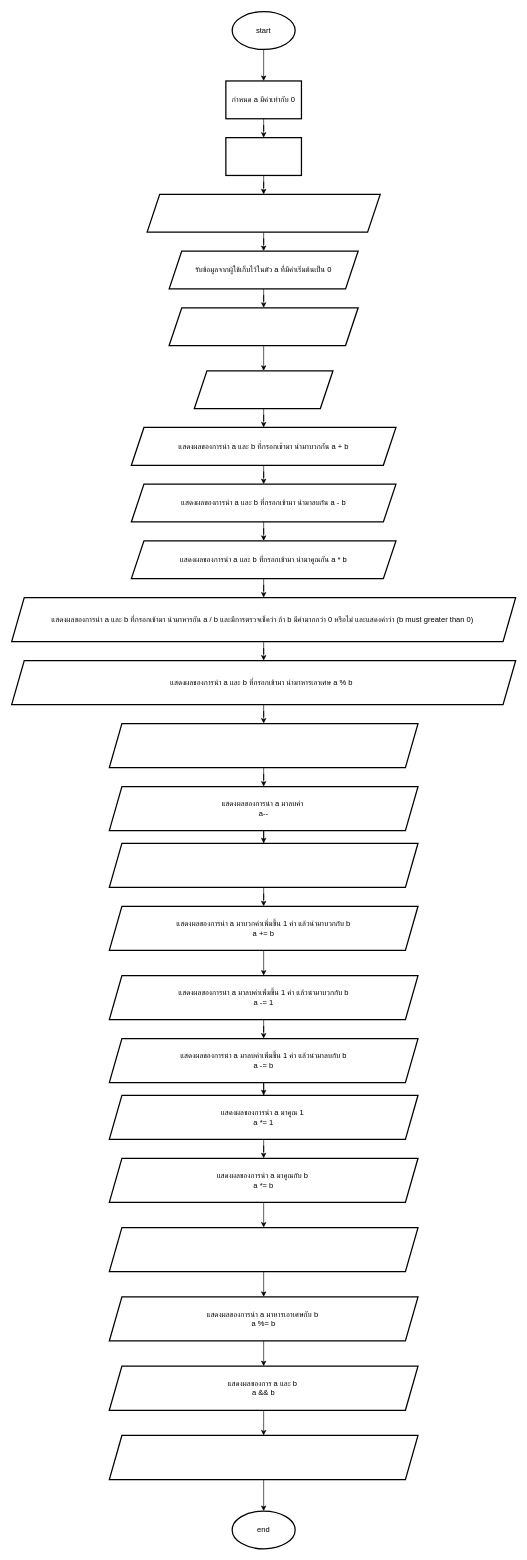
Image size: 527x1560. Some labels were removed from this diagram. The centre of each missing label's shape, as x and y in pixels:
กำหนด b มีค่าเท่ากับ 0: pixel 263 156
รับข้อมูลจากผู้ใช้เก็บไว้ในตัว b ที่มีค่าเริ่มต้นเป็น 0: pixel 263 326
แสดงผล a และ b ที่กรอกเข้ามา: pixel 263 389
แสดงผลของการ a หรือ b a || b: pixel 263 1457
แสดงผลของการนำ a มาบวกค่าก่อน แล้วแสดงผลหลังจากการนำ a ที่บวกค่าก่อน มาแสดง ++a: pixel 263 745
แสดงผลของการนำ a มาบวกค่าเพิ่มขึ้น 1 a += 1: pixel 263 865
แสดงผลของการนำ a มาหารเอาเศษกับ 1 a %= 1: pixel 263 1249
แสดงผลให้ผู้ใช้งานว่า " Please enter value (a b) : ": pixel 263 212
